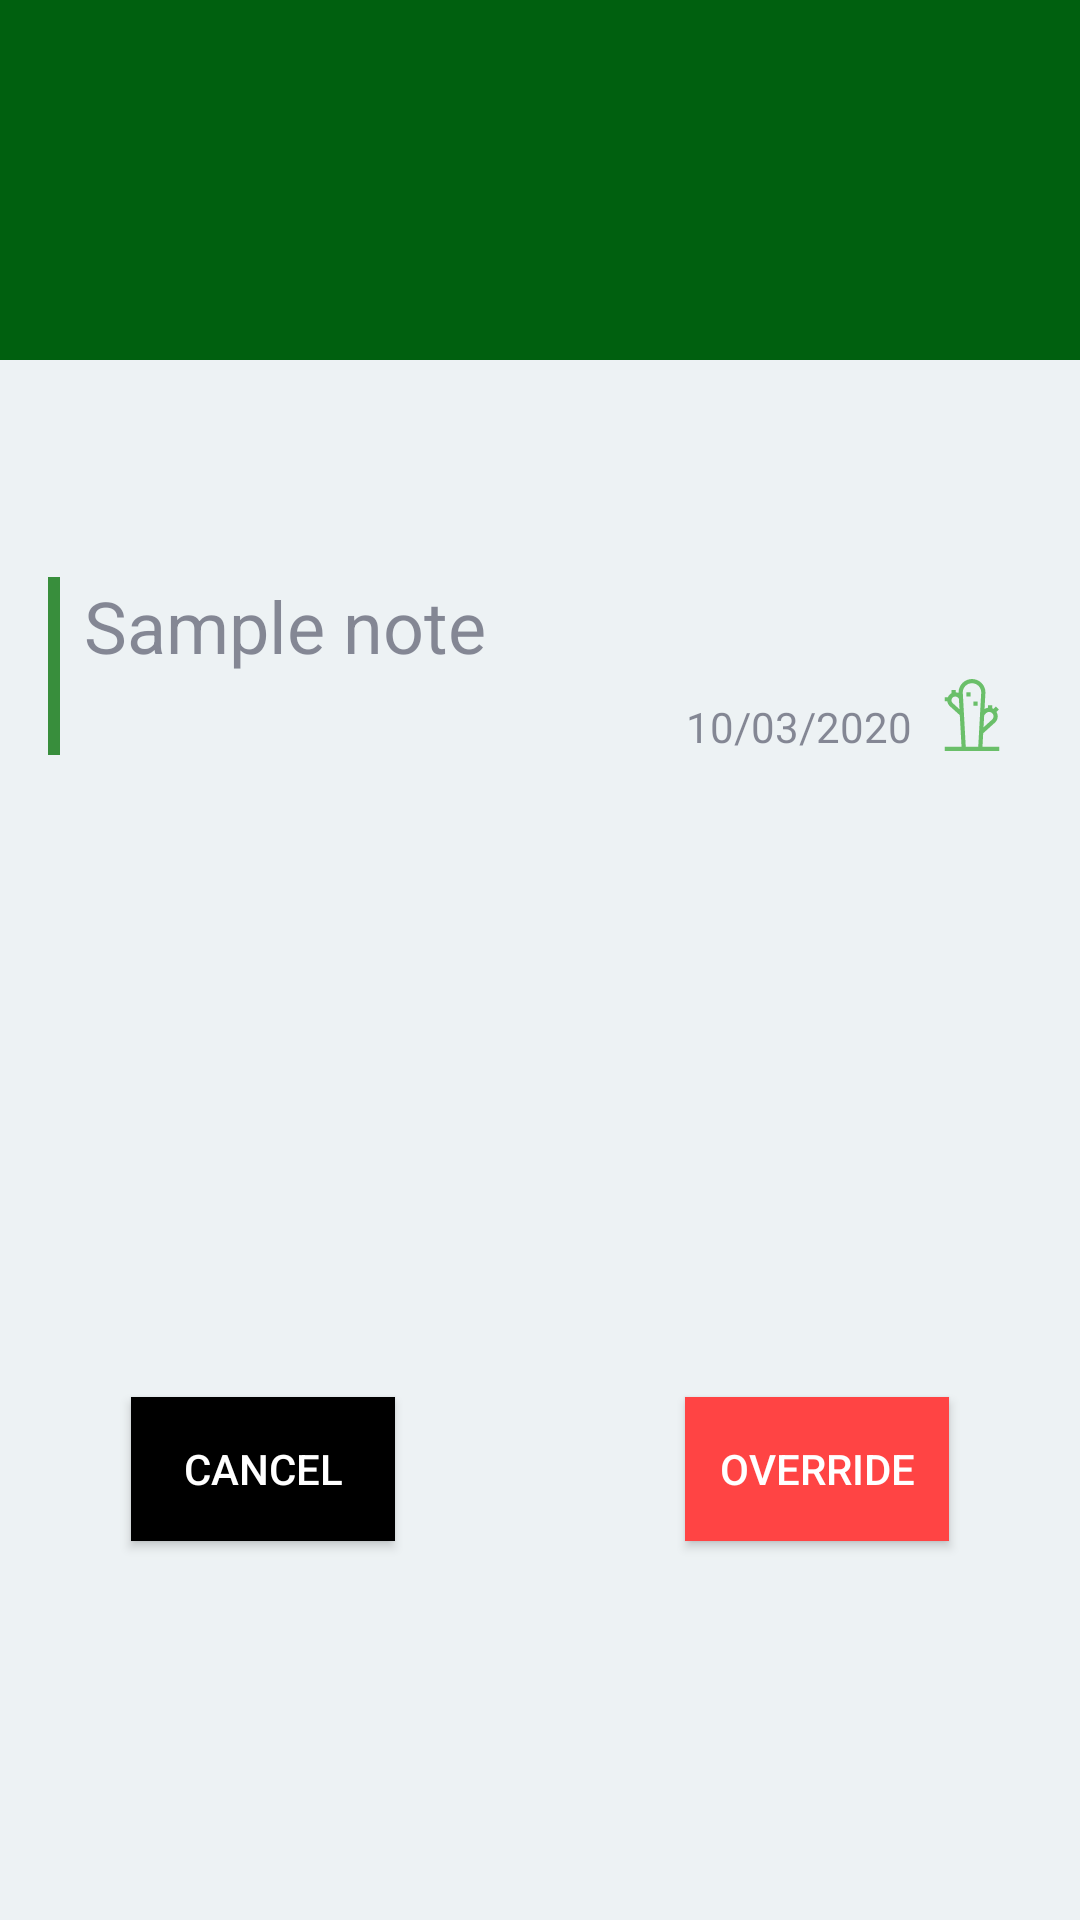

Locate icon controls on the screen. Image size 1080px×1920px, boxes as (x1, y1, x2, y2).
cactus: (944, 679, 1000, 751)
